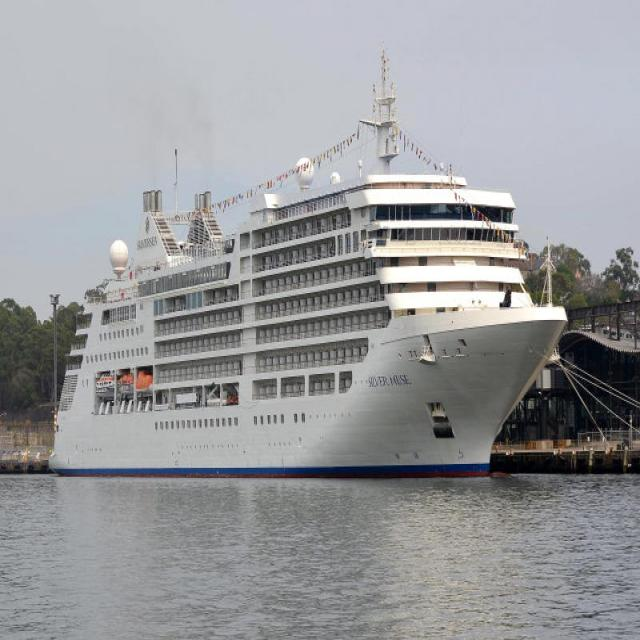cruises: (37, 42, 575, 495)
